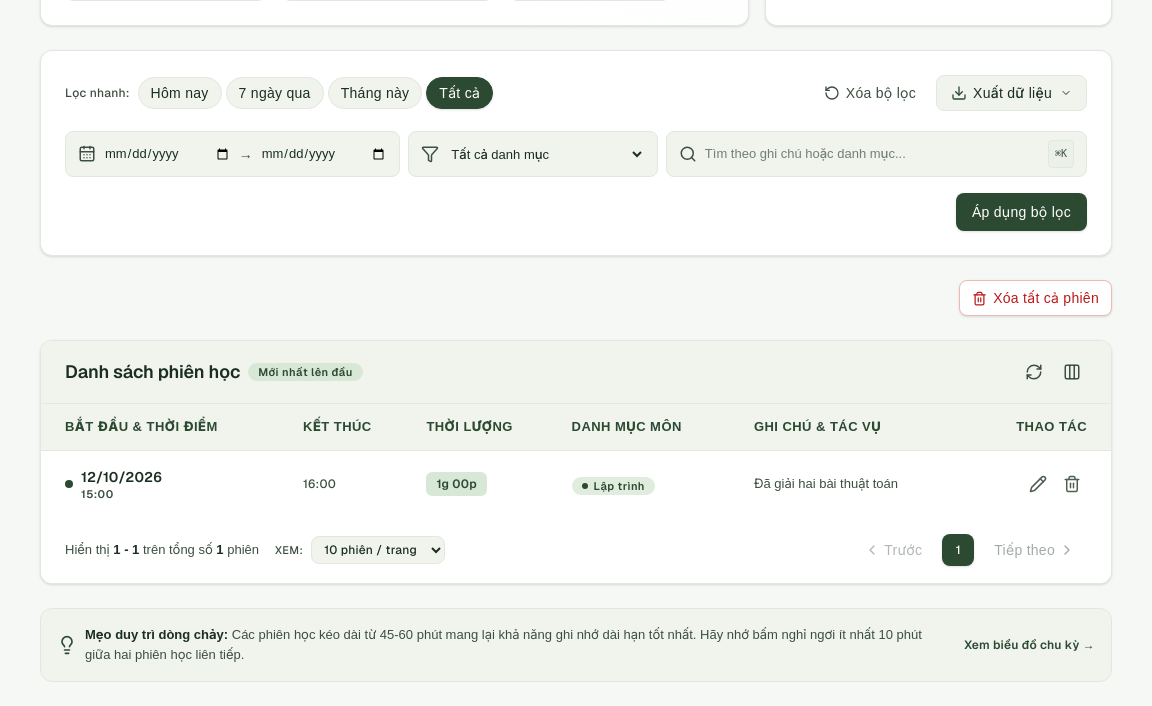
HistoryWorkspace › opens the real edit form with the saved note
The width and height of the screenshot is (1152, 706).
(page scrolled)
Click the button named "Chỉnh sửa phiên 12/10/2026": (1038, 484) [1023, 469, 1053, 499]
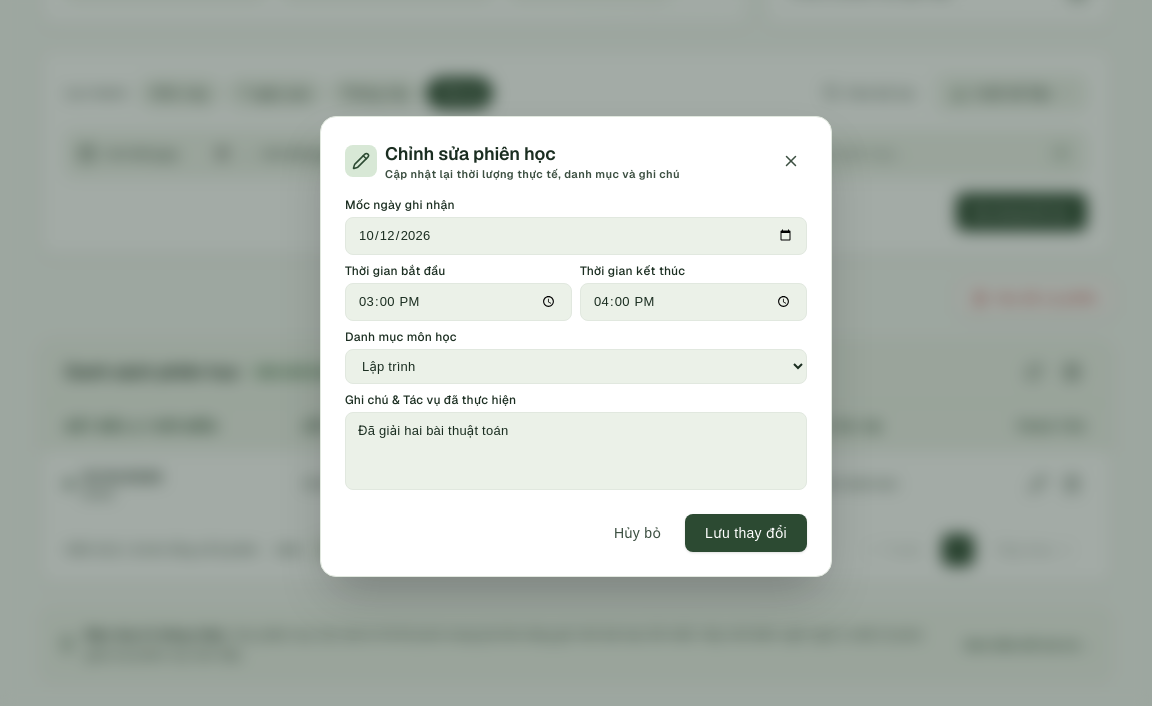
Expected: the dialog "Chỉnh sửa phiên học" is shown, [320, 116, 832, 576]
Expected: the text box with placeholder "Ghi lại nội dung đã học…" holds "Đã giải hai bài thuật toán", [345, 412, 807, 490]
